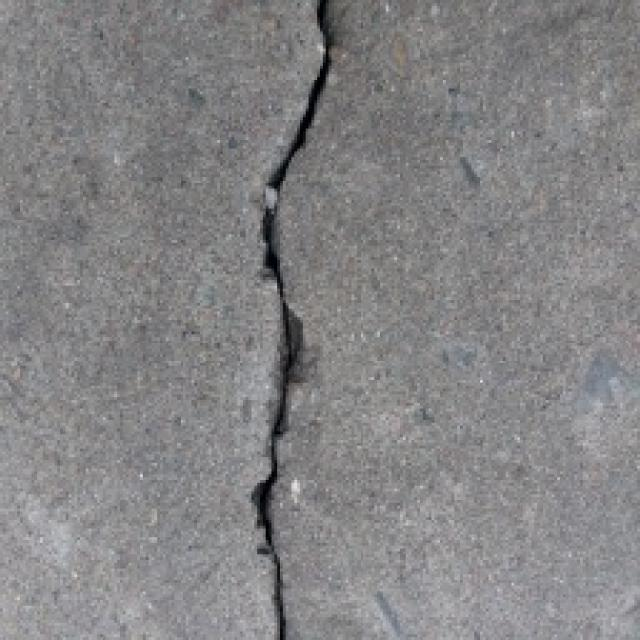crack: (226, 0, 388, 640)
